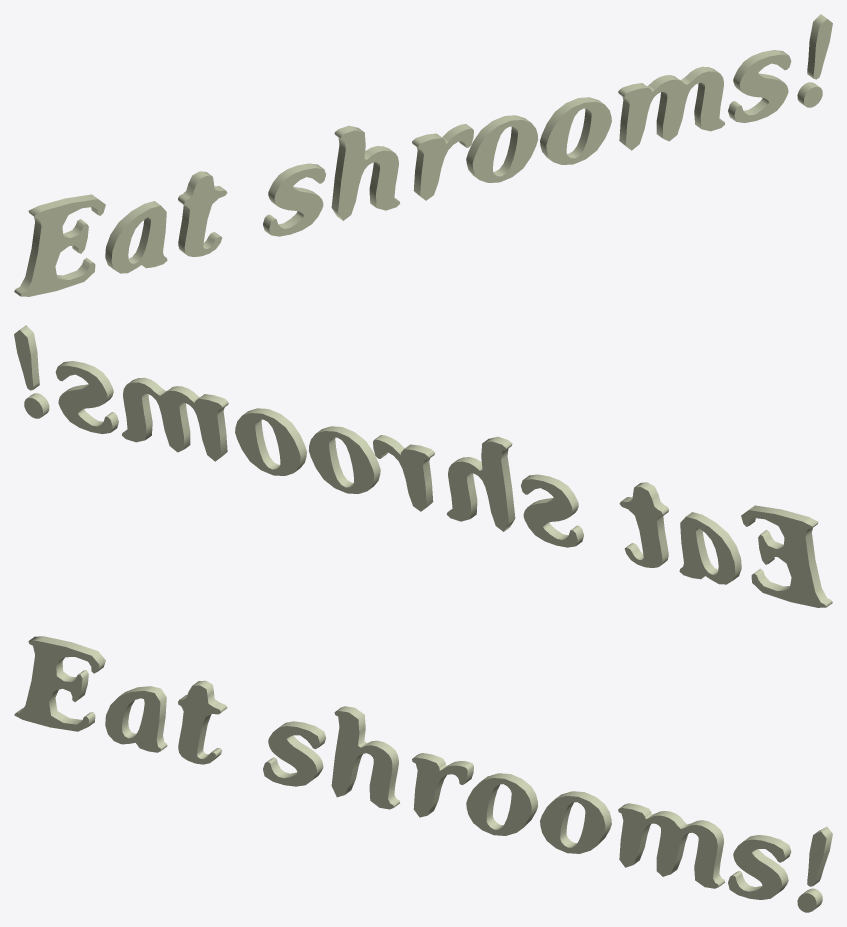
The model's file is eat.dae.
The picture shows the model from 3 angles, top to bottom: view 1: azimuth 30°, elevation 25°; view 2: azimuth 150°, elevation 25°; view 3: azimuth 330°, elevation 25°; orthographic projection.
Visible parts, largest first — view 1: text6-0; view 2: text6-0; view 3: text6-0.
Boxes of the visible parts, x1,y1,x2,y2 form: text6-0: (14,14,832,296); text6-0: (14,325,832,607); text6-0: (14,636,832,912).
Bounding box in the file's own units: 14.71 × 1.53 × 0.2.
